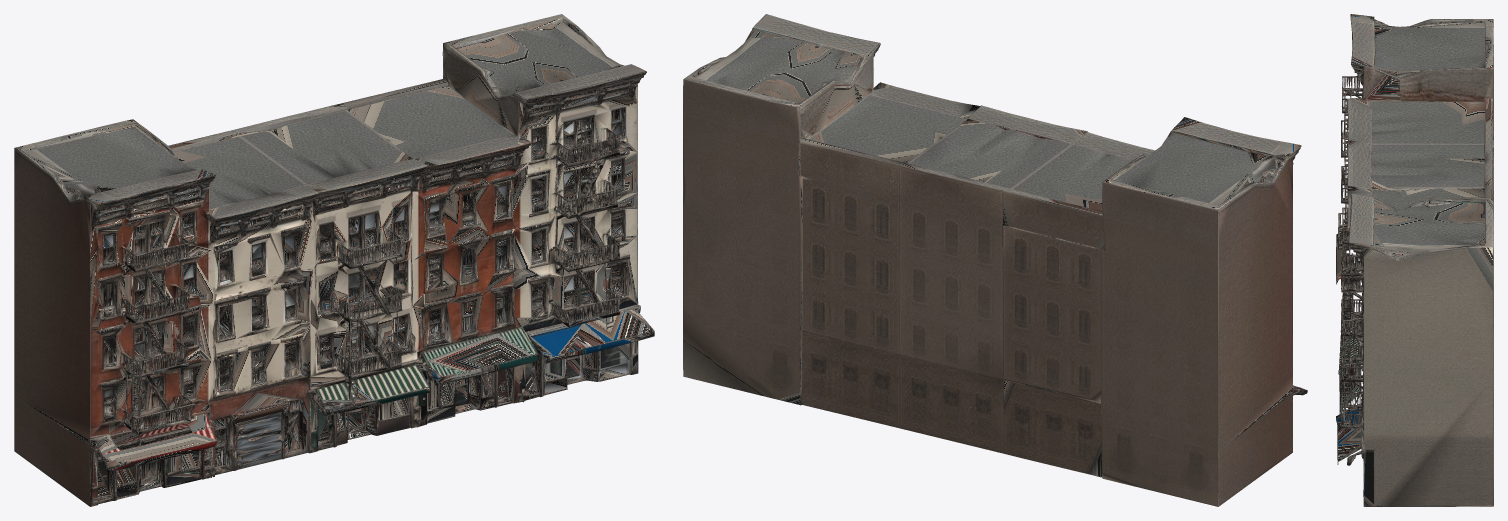
The model's file is row_five_d_hq.glb.
3 renders of one model, left to right at view 1: azimuth 30°, elevation 25°; view 2: azimuth 150°, elevation 25°; view 3: azimuth 270°, elevation 25°, orthographic. The views are drawn at different scales.
Bounding box in the file's own units: 31.64 × 17 × 9.2.
Materials: 1 (1 with a texture image).
